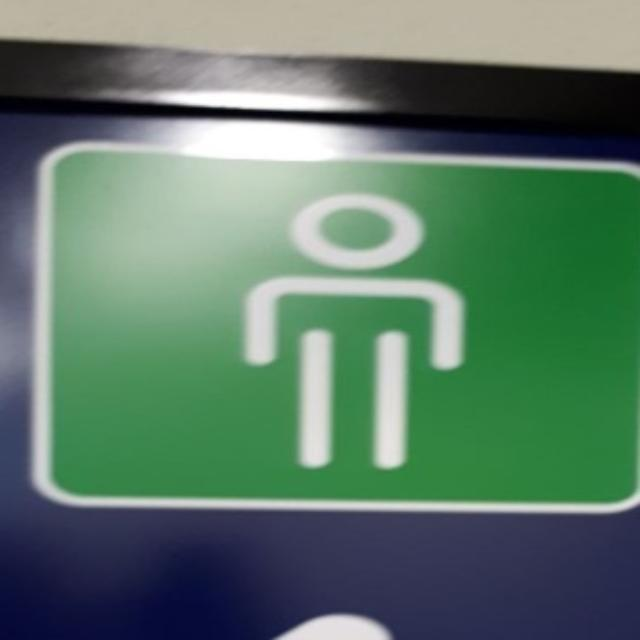mens_restroom: (38, 148, 638, 512)
